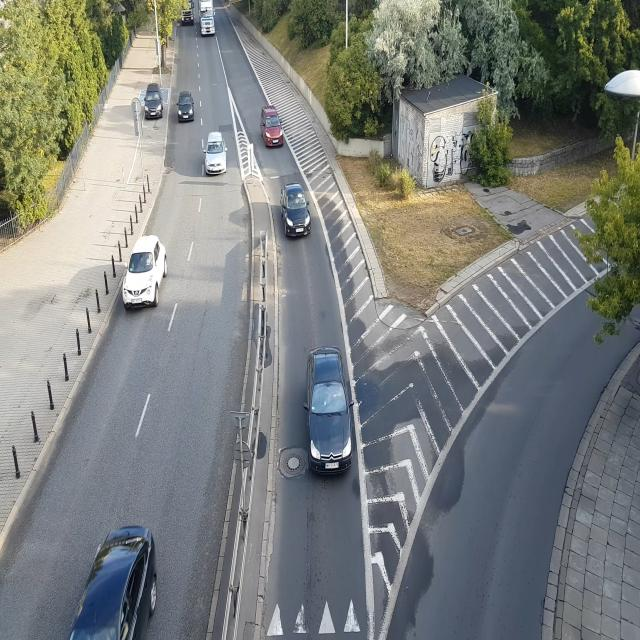car: (80, 502, 161, 640), (305, 341, 355, 481), (121, 237, 167, 311), (282, 185, 311, 239), (204, 133, 228, 176), (262, 108, 284, 150), (143, 89, 164, 119), (178, 92, 196, 122)
truck: (196, 1, 216, 36), (180, 0, 194, 28)
